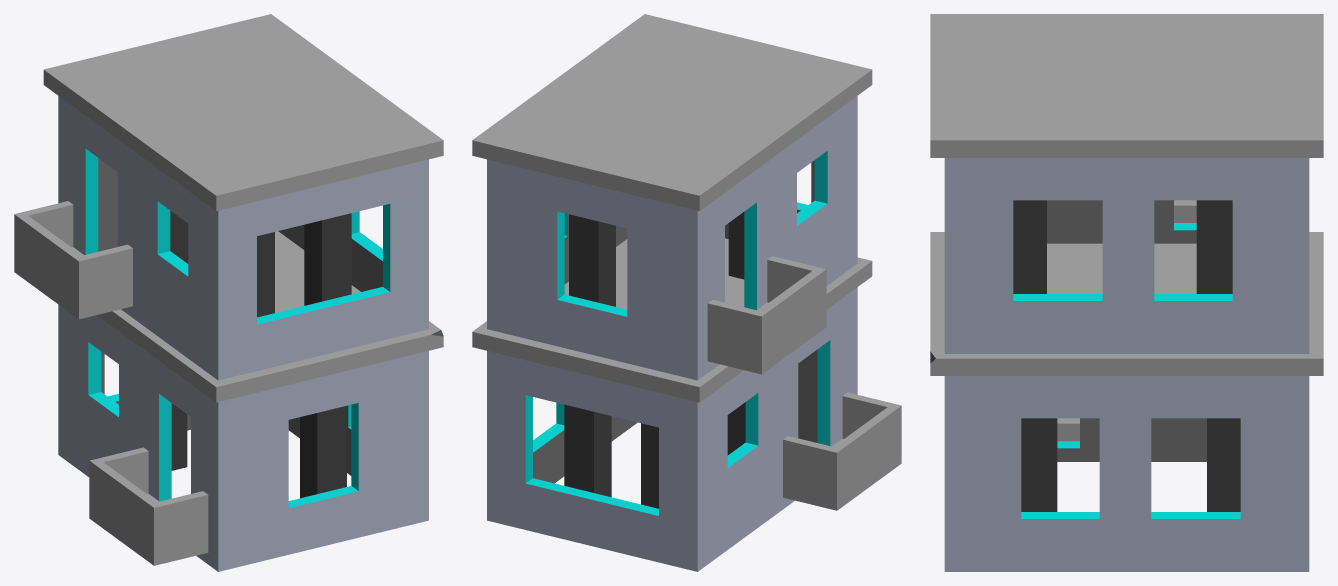
The model's file is House_1.fbx.
3 renders of one model, left to right at view 1: azimuth 30°, elevation 25°; view 2: azimuth 150°, elevation 25°; view 3: azimuth 270°, elevation 25°, orthographic. The views are drawn at different scales.
Parts seen in each view (by area): view 1: house_1_max57, house_1_max22, house_1_max94, house_1_max49, house_1_max66, house_1_max132, house_1_max27, house_1_max117, house_1_max120, house_1_max93, house_1_max2, house_1_max92 (+37 smaller); view 2: house_1_max105, house_1_max94, house_1_max22, house_1_max118, house_1_max53, house_1_max66, house_1_max115, house_1_max117, house_1_max27, house_1_max93, house_1_max85, house_1_max7 (+39 smaller); view 3: house_1_max128, house_1_max1, house_1_max22, house_1_max94, house_1_max117, house_1_max80, house_1_max4, house_1_max27, house_1_max34, house_1_max21, house_1_max2, house_1_max52 (+24 smaller).
Part boxes in pixels (x1,y1,x2,y2): house_1_max57: (211,377,428,571); house_1_max22: (77,86,281,211); house_1_max94: (43,14,312,110); house_1_max49: (277,159,428,318); house_1_max66: (117,191,210,374); house_1_max132: (211,217,310,380); house_1_max27: (260,105,411,196); house_1_max117: (212,44,395,113); house_1_max120: (211,375,333,505); house_1_max93: (105,327,171,477); house_1_max2: (275,232,443,373); house_1_max92: (299,293,428,355); house_1_max105: (487,159,704,314); house_1_max94: (472,110,735,211); house_1_max22: (651,53,872,184); house_1_max118: (540,233,704,380); house_1_max53: (487,351,608,549); house_1_max66: (754,111,850,285); house_1_max115: (590,441,704,571); house_1_max117: (514,49,682,125); house_1_max27: (597,37,806,93); house_1_max93: (737,355,798,484); house_1_max85: (789,306,850,440); house_1_max7: (730,101,850,222); house_1_max128: (1099,376,1292,571); house_1_max1: (961,225,1292,353); house_1_max22: (930,14,1246,78); house_1_max94: (1188,14,1323,157); house_1_max117: (1038,74,1228,157); house_1_max80: (961,376,1219,459); house_1_max4: (965,443,1125,571); house_1_max27: (930,50,1095,157); house_1_max34: (961,158,1055,325); house_1_max21: (1046,158,1222,226); house_1_max2: (930,284,1251,375); house_1_max52: (1217,158,1292,307).
Size of the model in its own units: 151 by 202 by 165.
